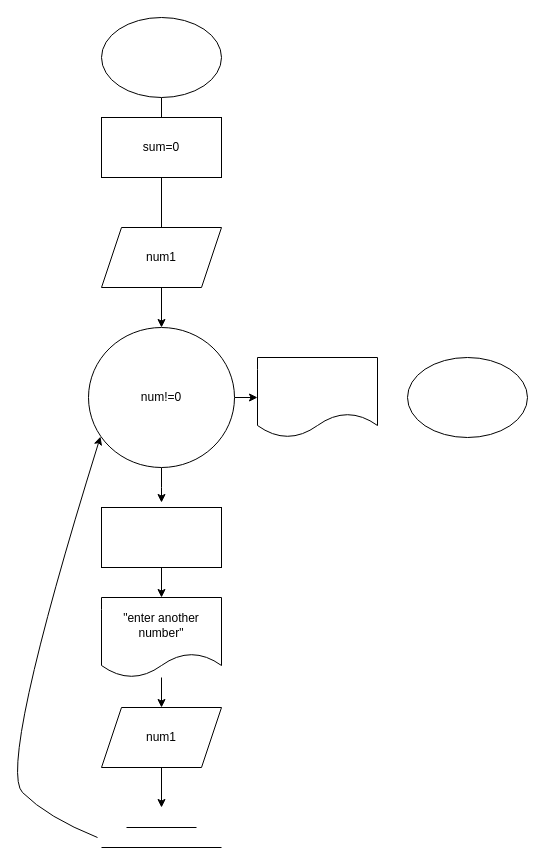
Some shapes in this 545 by 866 pixel diagram are drawn without their labels. The shapes that lost their labels are listed below. From the top down, each one's box as (x1, y1, x2, y2) in pixels, then its label:
(100, 16, 222, 98): start
(406, 356, 528, 438): stop
(100, 506, 222, 568): sum+=1
